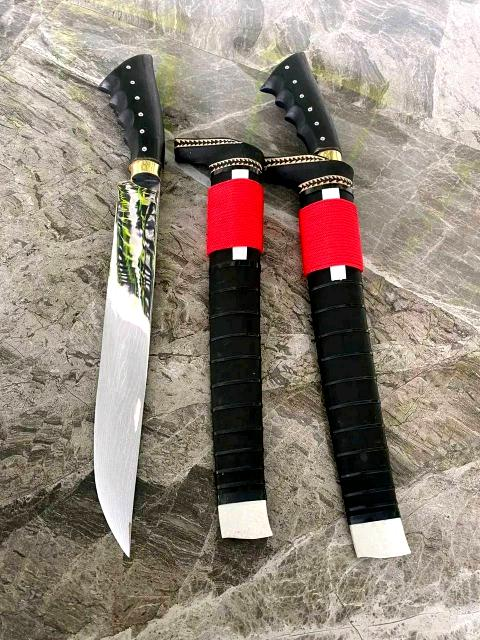long knife: (259, 50, 413, 558), (91, 52, 165, 558)
